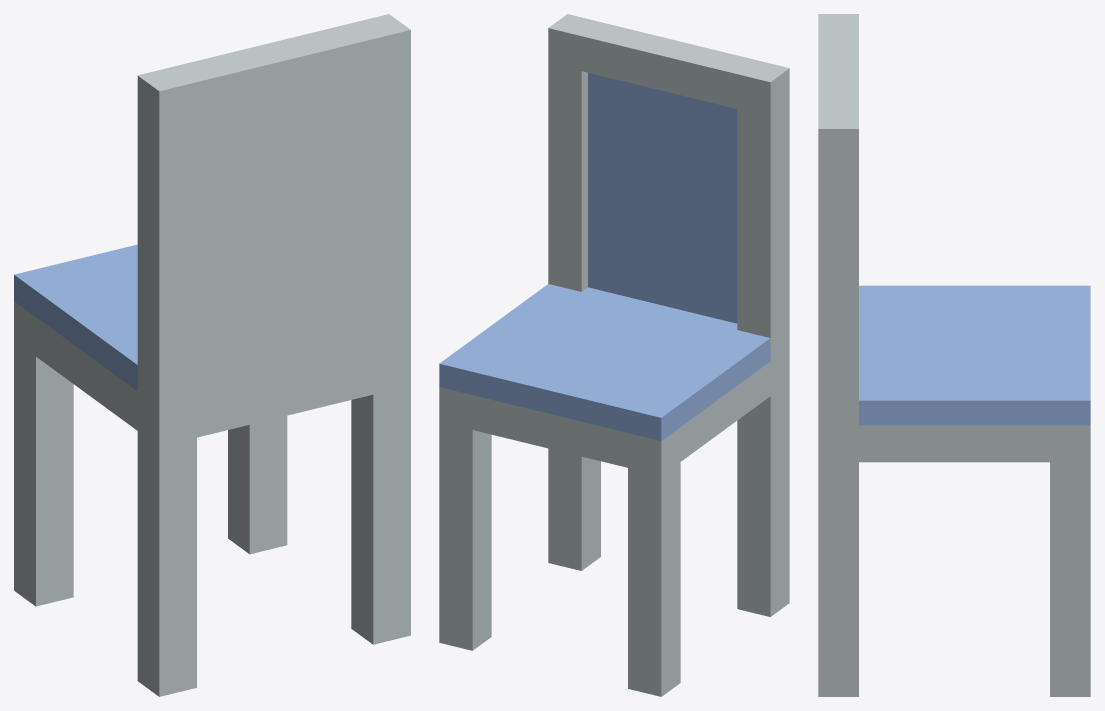
Rendered from chair-modern-cushion.glb.
3 views of the same model, side by side, from view 1: azimuth 30°, elevation 25°; view 2: azimuth 150°, elevation 25°; view 3: azimuth 270°, elevation 25° (orthographic). The views are drawn at different scales.
Parts seen in each view (by area): view 1: Mesh0, Mesh1; view 2: Mesh0, Mesh1; view 3: Mesh0, Mesh1.
Boxes of the visible parts, x1=… form: Mesh0: x1=14, y1=14, x2=410, y2=696; Mesh1: x1=14, y1=244, x2=137, y2=390; Mesh0: x1=439, y1=14, x2=789, y2=696; Mesh1: x1=439, y1=72, x2=770, y2=440; Mesh0: x1=818, y1=14, x2=1090, y2=696; Mesh1: x1=859, y1=285, x2=1090, y2=425.
Size of the model in its own units: 0.2 by 0.46 by 0.2.
